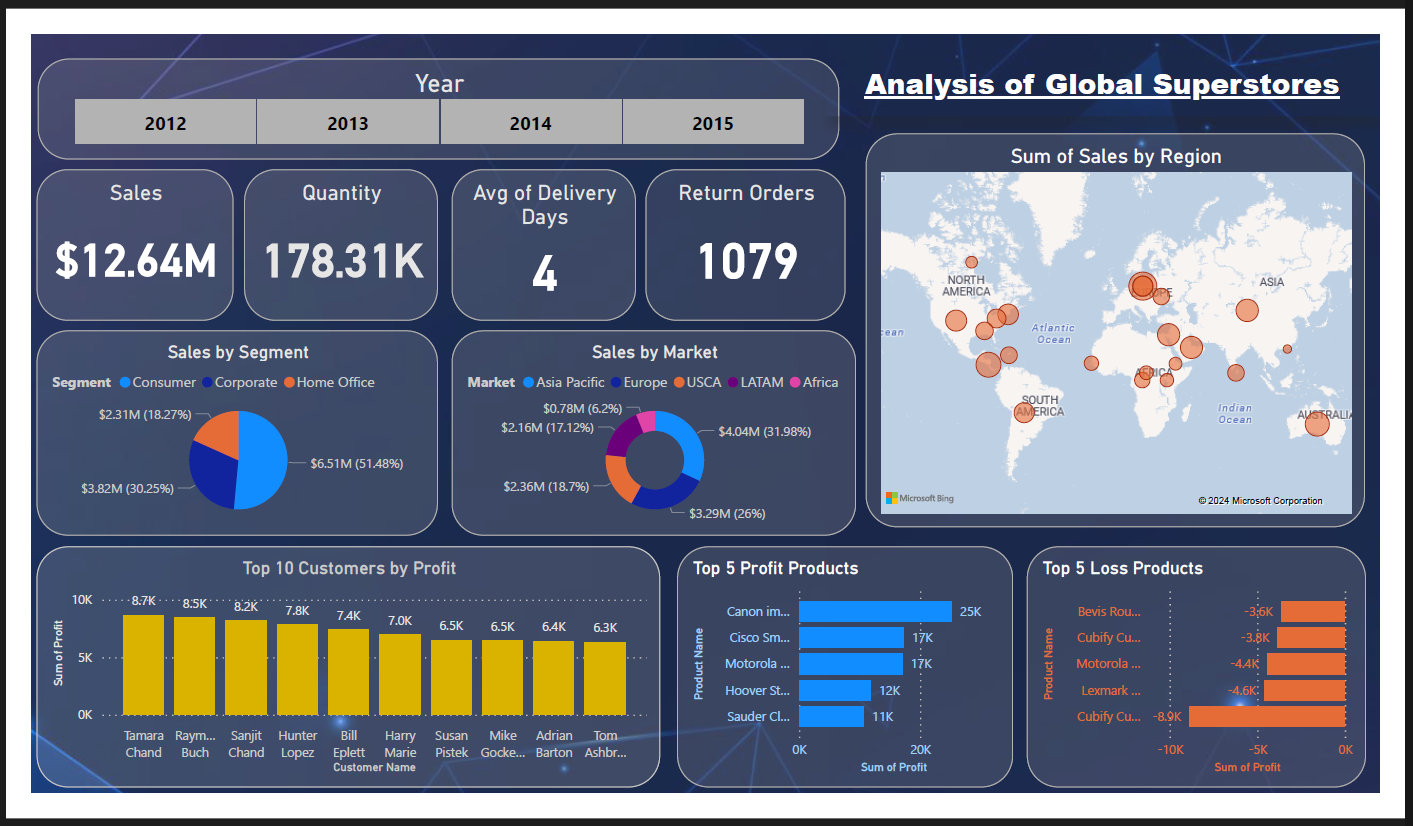

The dashboard page shown, as its layout file describes it:
{"tool":"powerbi","page":{"name":"MiniProject","canvas":[1280,720],"ordinal":0},"visuals":[{"type":"card","title":"Sales","fields":{"Values":["Orders.Sales"]},"box":[5.5,127.6,186.6,144.1],"z":0},{"type":"card","title":"Quantity","fields":{"Values":["Orders.Quantity"]},"box":[201.7,127.6,183.9,144.1],"z":1000},{"type":"card","title":"Avg of Delivery Days","fields":{"Values":["Orders.Delivery Days"]},"box":[399.3,127.6,174.3,144.1],"z":2000},{"type":"slicer","title":"Year","fields":{"Values":["Orders.Year"]},"box":[6,22.9,761,96.5],"z":3000},{"type":"card","title":"Return Orders","fields":{"Values":["Returns.Return Orders"]},"box":[583.2,127.6,189.4,144.1],"z":4000},{"type":"map","fields":{"Category":["Orders.Region"],"Size":["Orders.Sales"]},"box":[792.4,94.1,474,373.9],"z":5000},{"type":"clusteredBarChart","title":"Top 5 Profit Products","fields":{"Y":["Orders.Profit"],"Category":["Orders.Product Name"]},"box":[612.7,486,319.6,229.1],"z":6000},{"type":"clusteredBarChart","title":"Top 5 Loss Products","fields":{"Y":["Orders.Profit"],"Category":["Orders.Product Name"]},"box":[945.5,485.8,321.1,229.2],"z":7000},{"type":"pieChart","title":"Sales by Segment","fields":{"Category":["Orders.Segment"],"Y":["Orders.Sales"]},"box":[5.5,281.3,380.1,194.9],"z":8000},{"type":"donutChart","title":"Sales by Market","fields":{"Y":["Orders.Sales"],"Category":["Orders.Market"]},"box":[399.2,281,383.5,195.4],"z":9000},{"type":"clusteredColumnChart","title":"Top 10 Customers by Profit","fields":{"Category":["Orders.Customer Name"],"Y":["Orders.Profit"]},"box":[5.5,485.8,591.4,229.2],"z":10000},{"type":"textbox","box":[752.6,22.9,527,55.5],"z":11000}]}

Visuals, with their boxes in screenshot pixels (x1, y1, x2, y2):
"Sales" card: [left=28, top=146, right=231, bottom=303]
"Quantity" card: [left=242, top=146, right=442, bottom=303]
"Avg of Delivery Days" card: [left=457, top=146, right=647, bottom=303]
"Year" slicer: [left=29, top=32, right=857, bottom=137]
"Return Orders" card: [left=657, top=146, right=863, bottom=303]
map - Orders.Region x Orders.Sales: [left=885, top=110, right=1401, bottom=517]
"Top 5 Profit Products" clusteredBarChart: [left=689, top=536, right=1037, bottom=786]
"Top 5 Loss Products" clusteredBarChart: [left=1051, top=536, right=1401, bottom=786]
"Sales by Segment" pieChart: [left=28, top=314, right=442, bottom=526]
"Sales by Market" donutChart: [left=457, top=313, right=874, bottom=526]
"Top 10 Customers by Profit" clusteredColumnChart: [left=28, top=536, right=672, bottom=786]
textbox: [left=841, top=32, right=1412, bottom=93]
